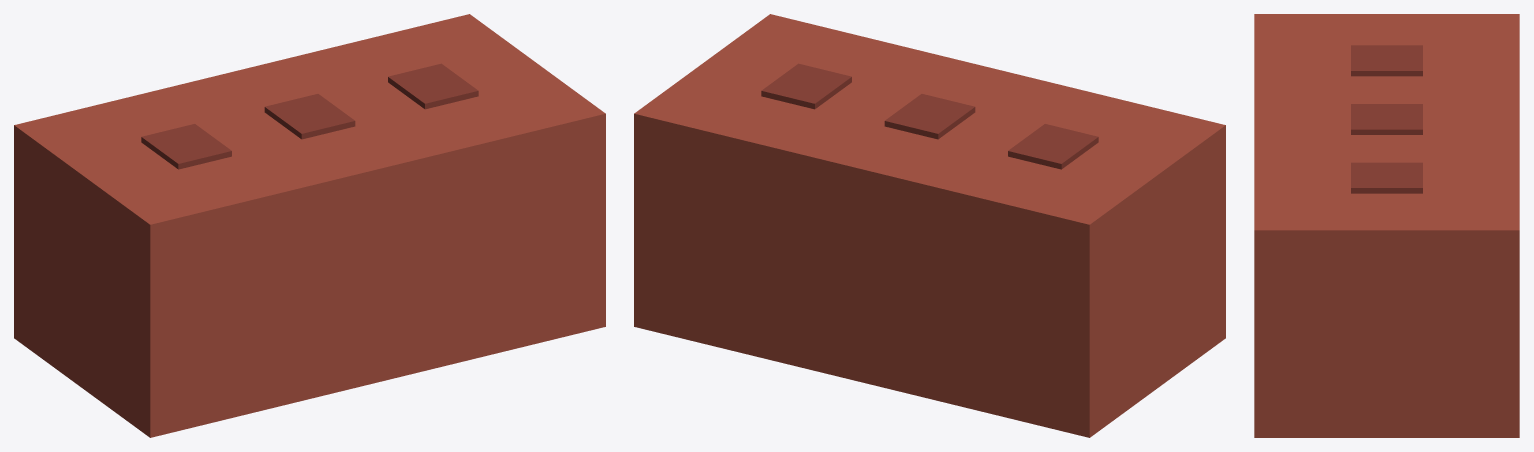
Rendered from brick.glb.
3 views of the same model, side by side, from view 1: azimuth 30°, elevation 25°; view 2: azimuth 150°, elevation 25°; view 3: azimuth 270°, elevation 25° (orthographic). The views are drawn at different scales.
Parts seen in each view (by area): view 1: brick; view 2: brick; view 3: brick.
Boxes of the visible parts, x1,y1,x2,y2 form: brick: (14,14,605,437); brick: (634,14,1225,437); brick: (1254,14,1519,437).
Size of the model in its own units: 0.85 by 0.39 by 0.44.
